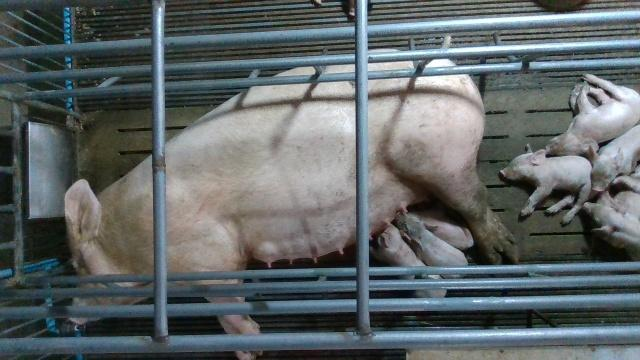piglet: (542, 72, 640, 155), (498, 145, 591, 225), (372, 225, 447, 298), (397, 213, 470, 278), (582, 199, 640, 261), (594, 124, 640, 192)
sow-sleep-lactate: (63, 50, 512, 360)
